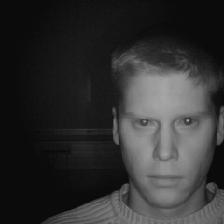normal: (107, 44, 224, 205)
